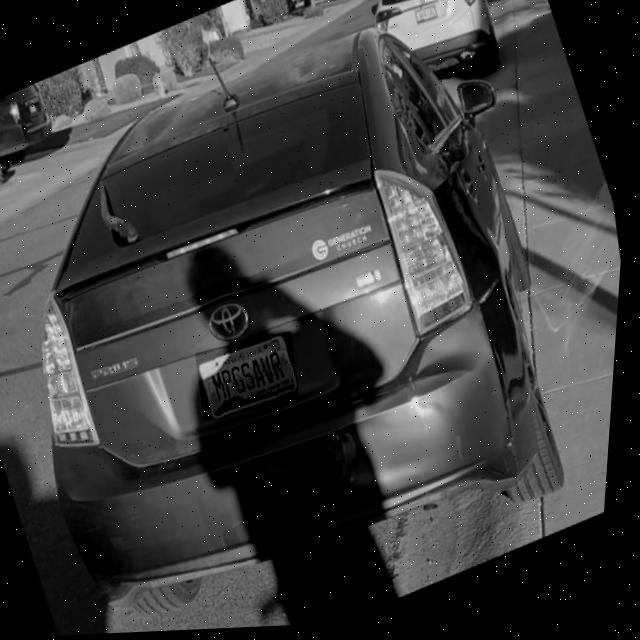LicensePlate: (202, 336, 304, 421)
